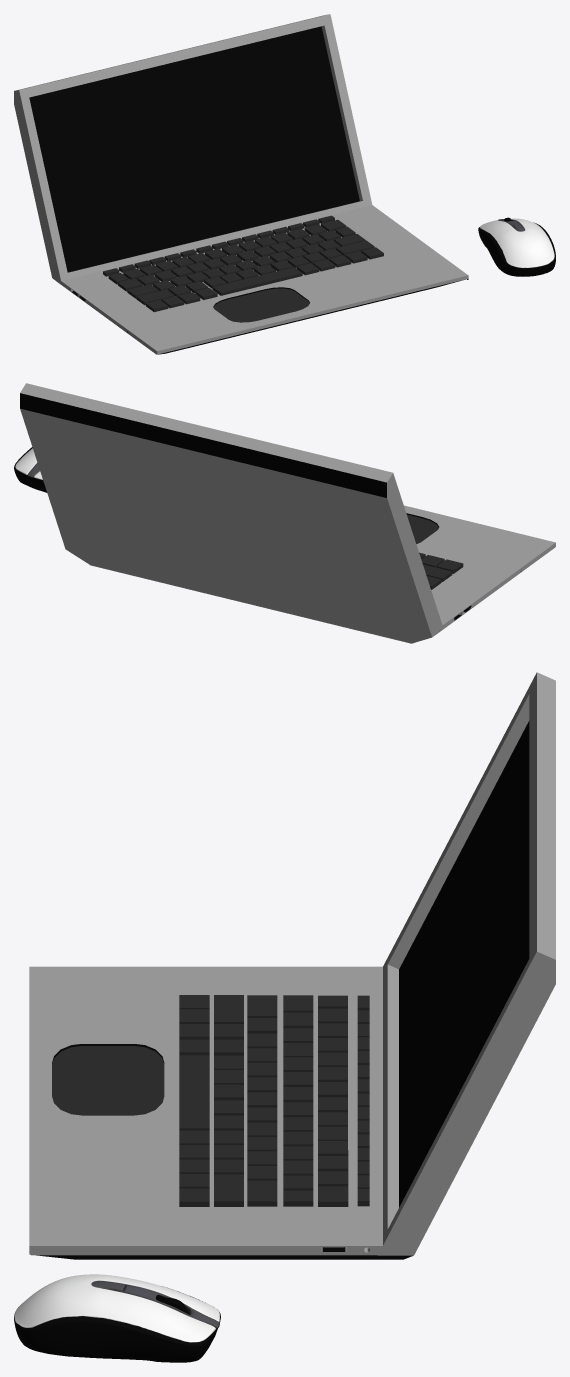
File: laptop (1).fbx
The picture shows the model from 3 angles, top to bottom: view 1: azimuth 30°, elevation 25°; view 2: azimuth 150°, elevation 25°; view 3: azimuth 270°, elevation 25°; orthographic projection. The views are drawn at different scales.
Visible parts, largest first — view 1: Cube.005, computer, keys.068, Cube.013, model.008, Mball.006; view 2: Cube.013, computer, keys.068, model.008, Mball.006; view 3: computer, keys.068, Cube.005, Cube.013, model.008, Mball.006.
Boxes of the visible parts, left/top/right/bottom form: Cube.005: left=29, top=26, right=359, bottom=272; computer: left=55, top=205, right=468, bottom=354; keys.068: left=103, top=215, right=383, bottom=312; Cube.013: left=14, top=14, right=372, bottom=284; model.008: left=478, top=217, right=555, bottom=276; Mball.006: left=213, top=288, right=309, bottom=322; Cube.013: left=20, top=383, right=443, bottom=643; computer: left=89, top=505, right=555, bottom=643; keys.068: left=419, top=552, right=463, bottom=589; model.008: left=14, top=447, right=46, bottom=492; Mball.006: left=407, top=514, right=438, bottom=543; computer: left=29, top=966, right=403, bottom=1259; keys.068: left=179, top=995, right=369, bottom=1206; Cube.005: left=399, top=721, right=529, bottom=1207; Cube.013: left=374, top=672, right=555, bottom=1259; model.008: left=14, top=1274, right=220, bottom=1362; Mball.006: left=52, top=1046, right=164, bottom=1115.
Size of the model in its own units: 650 by 264 by 399.
Materials: 5 (4 with a texture image).
